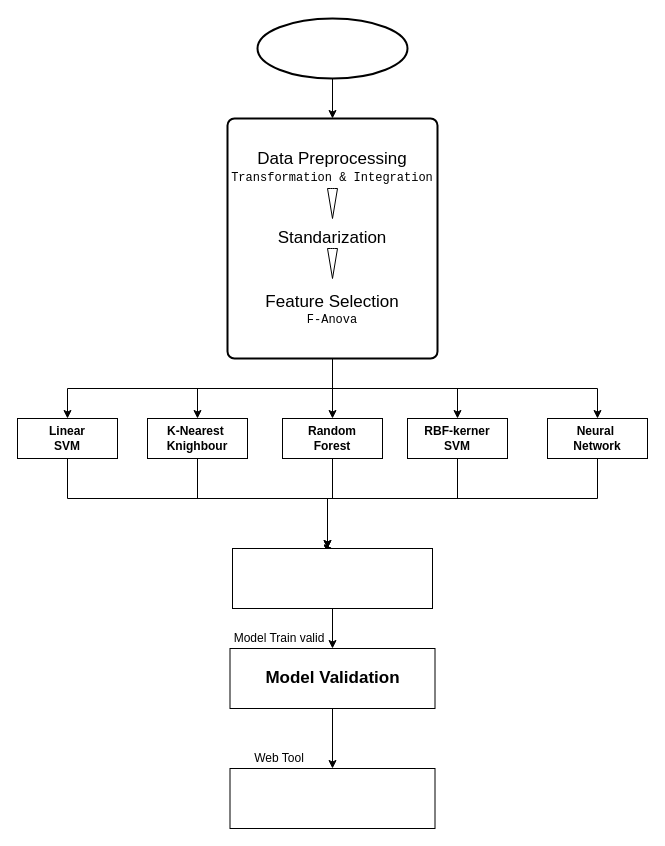
Image size: 665x846. Some labels were removed from this diagram. The shapes that lost their labels are listed below. From the top down, each one's centre as x and y in pixels, then its label:
At [332,48]: "Input Matrix".
At [332,578]: "Binary & Pan Cancer Classifier".
At [332,798]: "Single Cell Classification".
